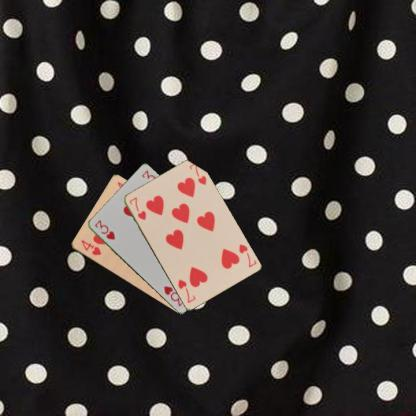3h: (92, 217, 116, 241)
4h: (79, 238, 102, 256)
7h: (235, 242, 258, 269), (126, 195, 147, 221)
